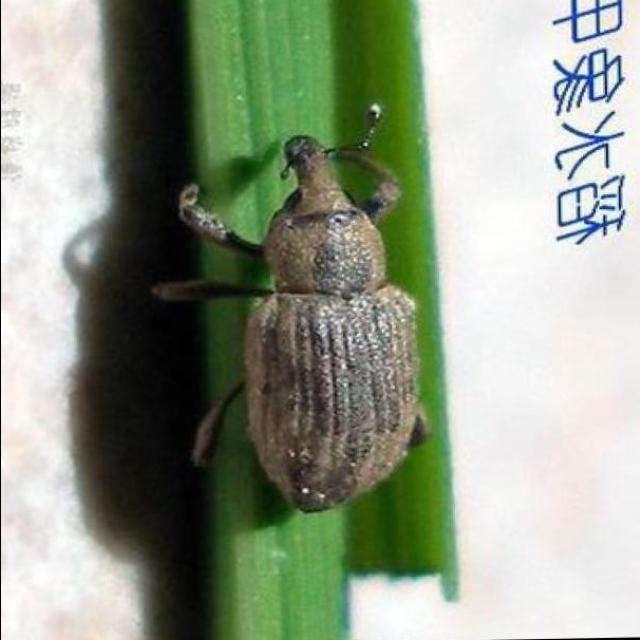ricebug: (152, 136, 428, 513)
